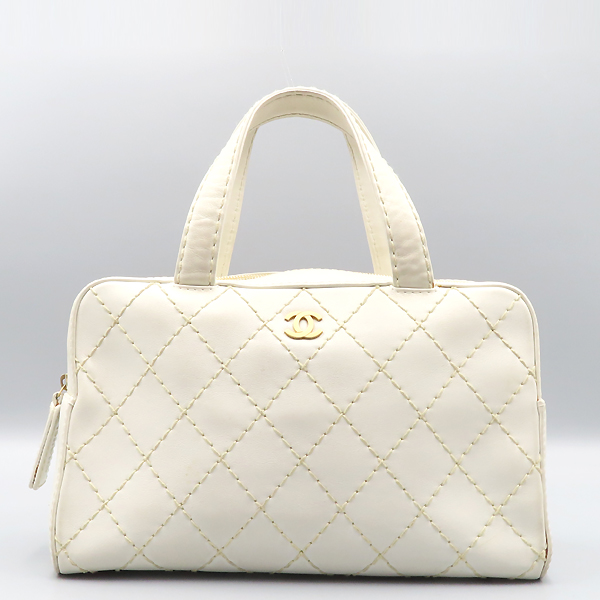channel: (59, 204, 554, 600), (259, 290, 338, 340)
